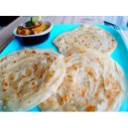parota: (52, 48, 126, 113), (1, 51, 65, 108), (55, 26, 117, 55)
